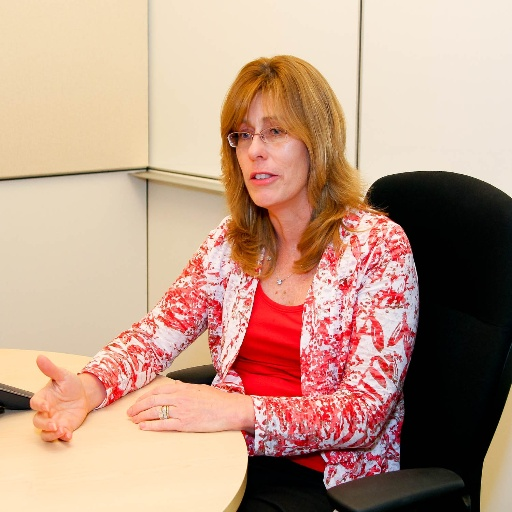hand: (19, 353, 100, 444), (125, 379, 246, 432)
